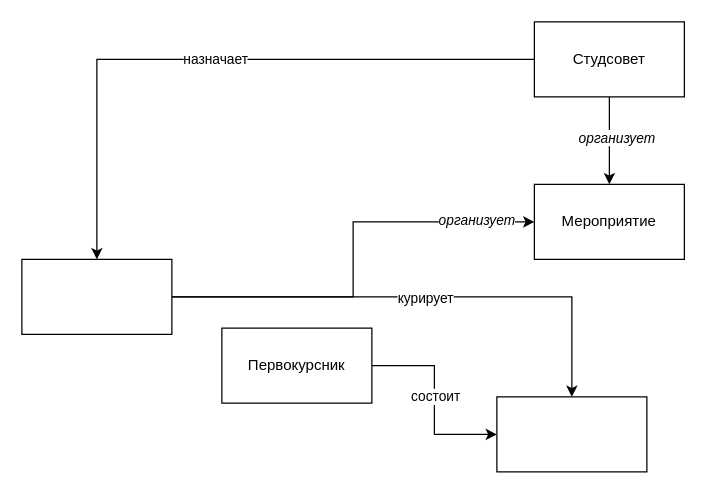
Some shapes in this 706 by 494 pixel diagram are drawn without their labels. The shapes that lost their labels are listed below. From the top down, each one's centre as x and y in pixels, then its label:
At [96,296]: "Куратор".
At [571,434]: "Студенческая группа".
